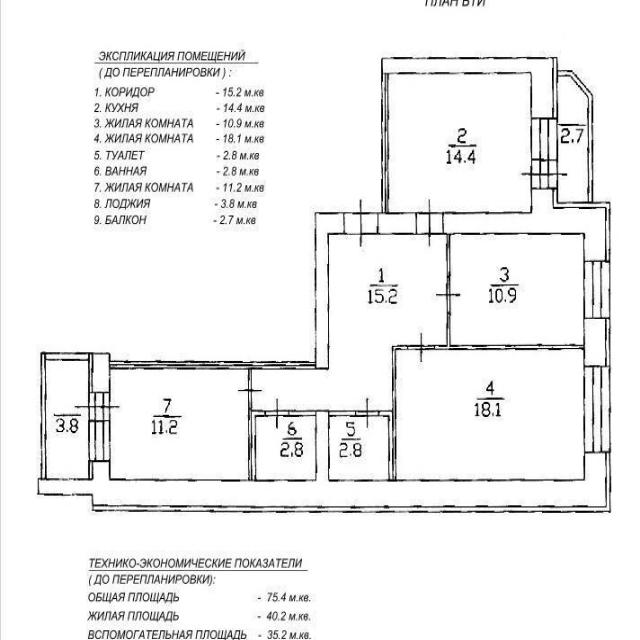Bathrooms: (330, 416, 388, 479), (258, 418, 315, 479)
Corridors: (252, 236, 446, 410), (46, 362, 86, 477), (559, 78, 588, 202)
Doors: (344, 199, 377, 247), (520, 161, 569, 188), (417, 198, 443, 248), (73, 393, 120, 419), (435, 276, 462, 313), (408, 331, 435, 362), (237, 379, 264, 409), (265, 397, 289, 430), (355, 397, 379, 429)
LBwalls: (92, 453, 611, 516), (530, 188, 612, 261), (531, 57, 558, 117), (584, 320, 610, 365), (89, 352, 110, 393), (87, 461, 111, 480)
Offices: (398, 352, 584, 479), (389, 75, 530, 211), (111, 370, 247, 479), (453, 236, 583, 344)
Walls: (111, 212, 343, 370), (381, 57, 531, 211), (37, 352, 93, 496), (443, 212, 531, 277), (435, 313, 584, 351), (559, 70, 594, 201), (290, 411, 355, 477), (379, 344, 407, 481), (248, 409, 265, 481), (378, 212, 417, 234), (248, 370, 252, 381)
Windows: (583, 365, 611, 453), (583, 259, 611, 319), (530, 118, 559, 162), (88, 420, 111, 462)
